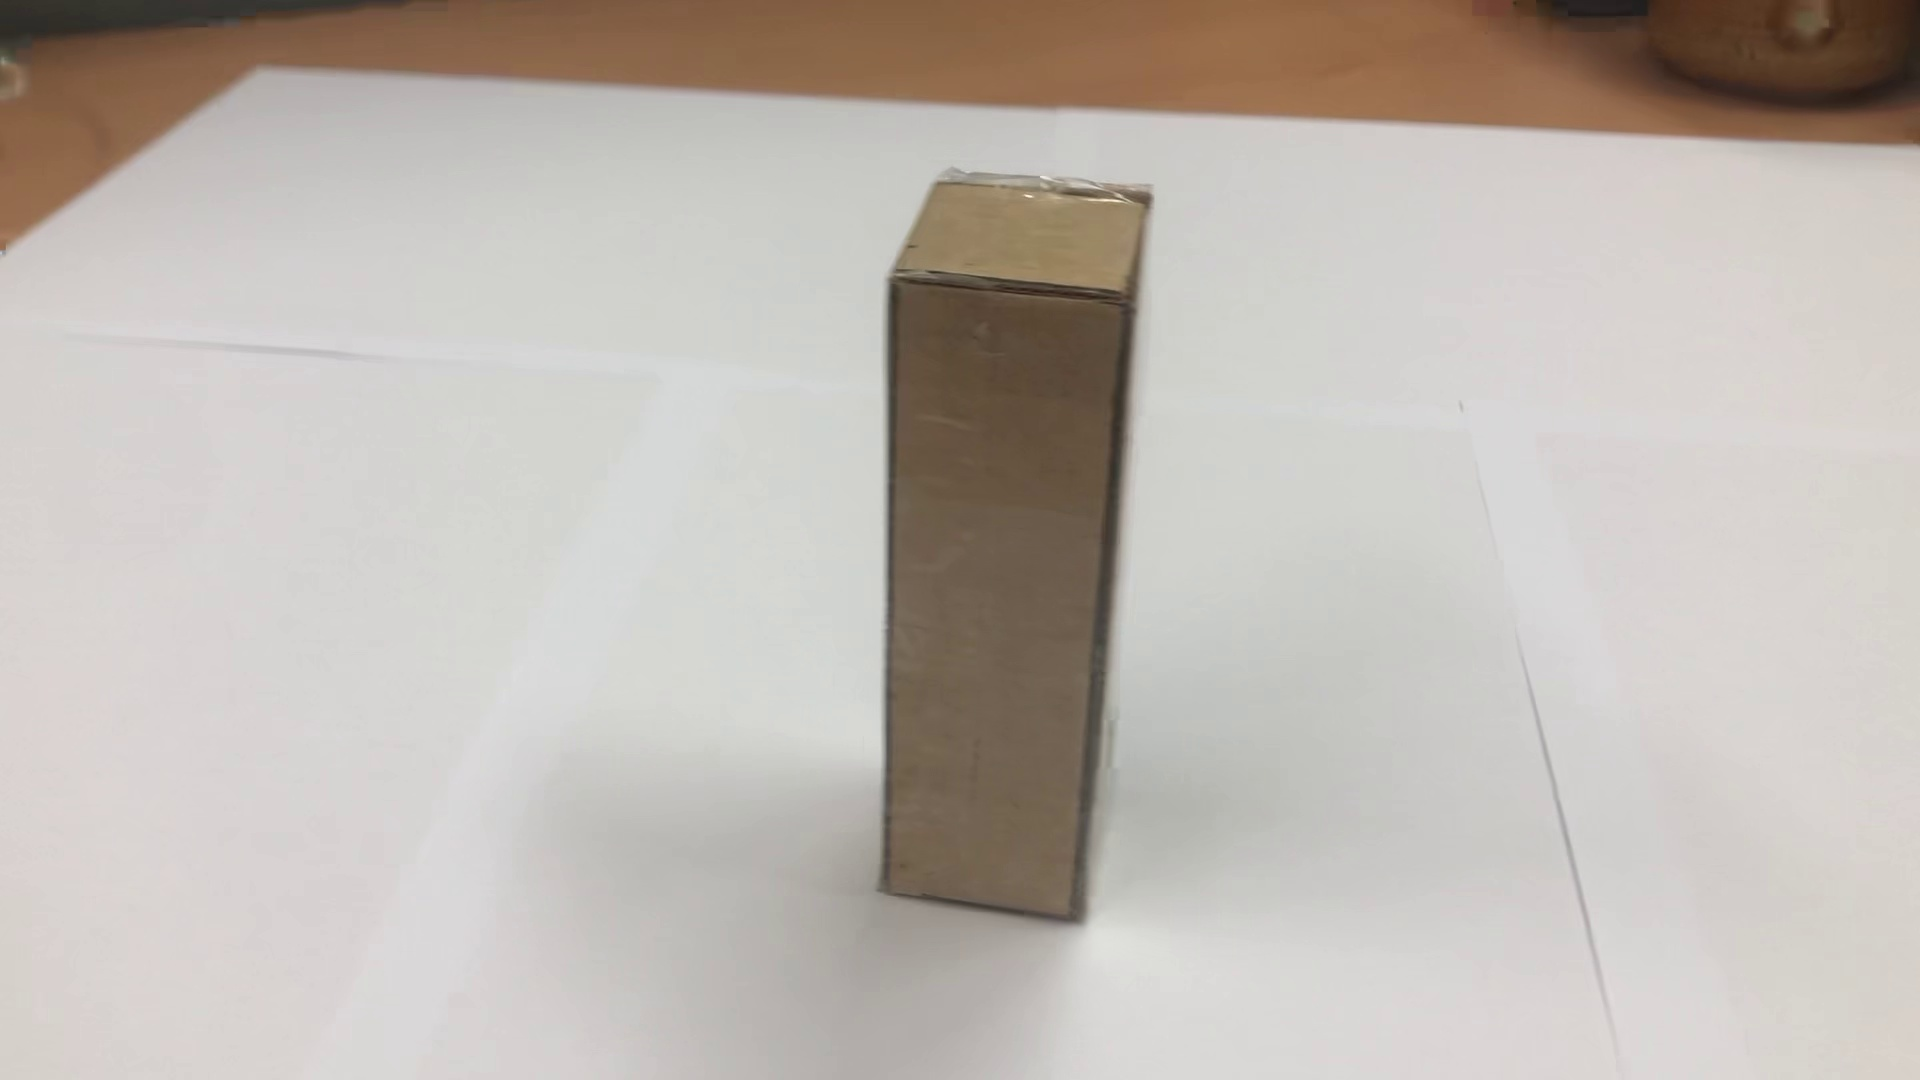box: (858, 156, 1163, 935)
